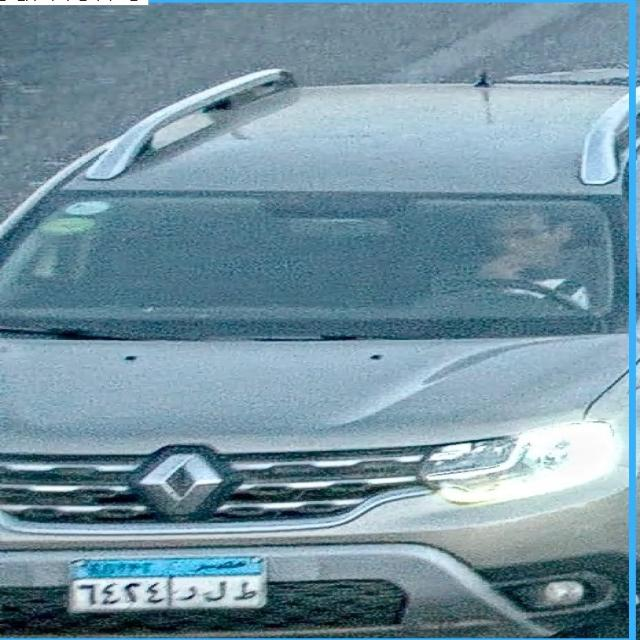windshield: (4, 193, 618, 331)
